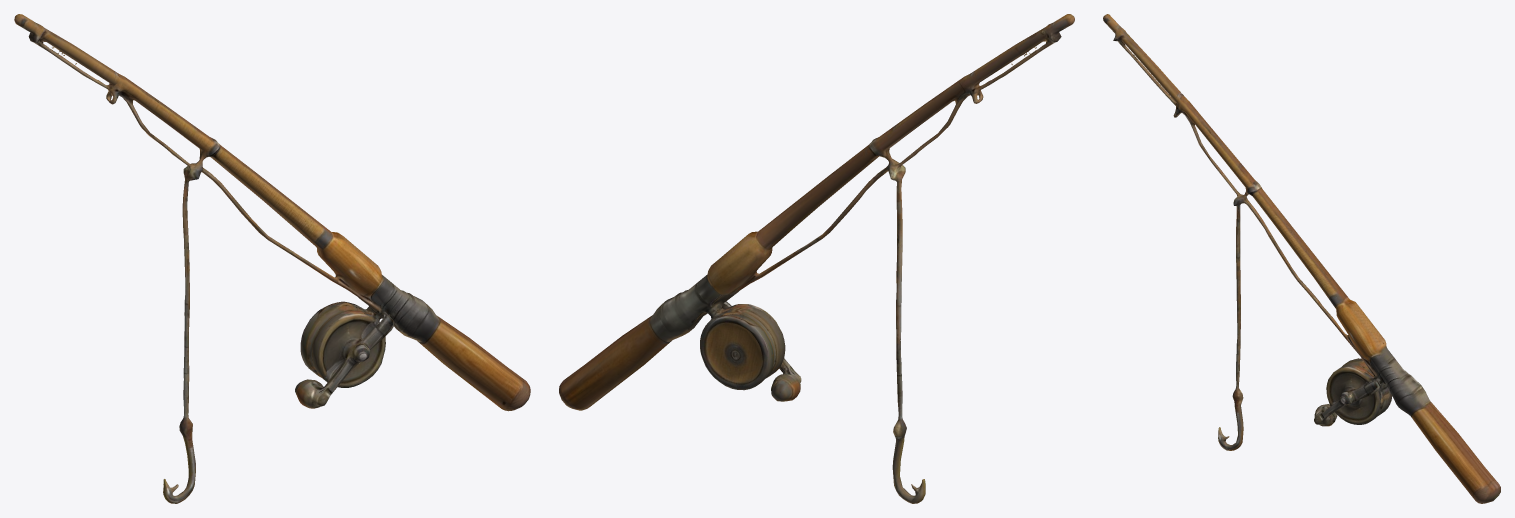
The model's file is rod.glb.
3 renders of one model, left to right at view 1: azimuth 30°, elevation 25°; view 2: azimuth 150°, elevation 25°; view 3: azimuth 330°, elevation 25°, orthographic. The views are drawn at different scales.
Visible parts, largest first — view 1: Mesh0; view 2: Mesh0; view 3: Mesh0.
Boxes of the visible parts, bbox=[...] form: Mesh0: bbox=[14, 14, 530, 503]; Mesh0: bbox=[559, 14, 1074, 503]; Mesh0: bbox=[1103, 14, 1500, 503].
Size of the model in its own units: 1.92 by 1.88 by 0.1958.
Materials: 1 (1 with a texture image).
